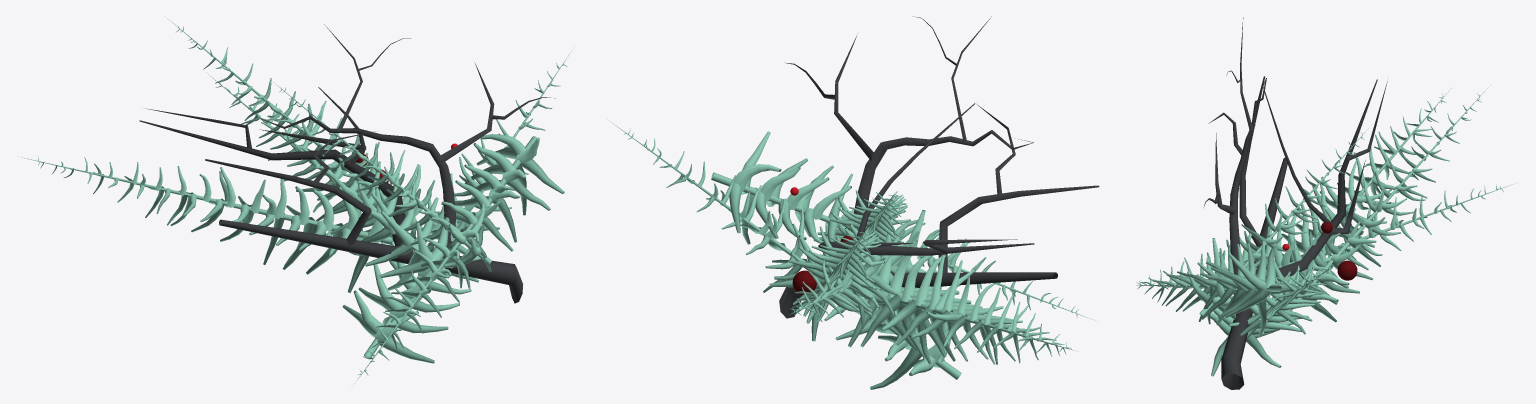
File: taiga.obj
The picture shows the model from 3 angles, left to right: view 1: azimuth 30°, elevation 25°; view 2: azimuth 150°, elevation 25°; view 3: azimuth 270°, elevation 25°; orthographic projection. The views are drawn at different scales.
Parts seen in each view (by area): view 1: Branche_bgroup1.006, bgroup5.003, bgroup4.004, bgroup2.004, bgroup2.006, bgroup5.002, bgroup7, bgroup3.003, bgroup2.001, bgroup4.001, bgroup4.003, bgroup3.002 (+21 smaller); view 2: bgroup5.003, bgroup2.003, bgroup4.004, bgroup3.003, bgroup5.004, Branche_bgroup1.006, bgroup7, bgroup2, bgroup2.002, bgroup5.006, bgroup3.004, bgroup2.001 (+21 smaller); view 3: Branche_bgroup1.006, bgroup5.003, bgroup2.004, bgroup3.004, bgroup2.006, bgroup5, bgroup4.004, bgroup2, bgroup7, bgroup3, bgroup2.002, bgroup5.005 (+20 smaller).
Part boxes in pixels (x1,y1,x2,y2): Branche_bgroup1.006: (219,219,523,303); bgroup5.003: (38,156,383,241); bgroup4.004: (359,134,526,373); bgroup2.004: (364,159,564,375); bgroup2.006: (139,120,407,246); bgroup5.002: (377,64,567,363); bgroup7: (261,116,455,258); bgroup3.003: (40,162,368,292); bgroup2.001: (216,85,429,278); bgroup4.001: (219,78,449,261); bgroup4.003: (38,161,378,255); bgroup3.002: (353,63,559,334); bgroup5.003: (875,233,1066,347); bgroup2.003: (848,289,1063,352); bgroup4.004: (734,164,1078,313); bgroup3.003: (880,302,1066,364); bgroup5.004: (729,180,1077,317); Branche_bgroup1.006: (779,272,1057,318); bgroup7: (851,130,1033,232); bgroup2: (769,231,863,290); bgroup2.002: (627,137,937,375); bgroup5.006: (938,185,1099,272); bgroup3.004: (742,131,1075,311); bgroup2.001: (796,263,941,317); Branche_bgroup1.006: (1221,157,1287,389); bgroup5.003: (1275,93,1443,276); bgroup2.004: (1137,285,1271,325); bgroup3.004: (1136,254,1268,291); bgroup2.006: (1265,79,1377,282); bgroup5: (1274,93,1479,298); bgroup4.004: (1140,241,1275,287); bgroup2: (1302,99,1480,301); bgroup7: (1229,78,1266,308); bgroup3: (1302,100,1481,322); bgroup2.002: (1252,272,1328,338); bgroup5.005: (1187,132,1362,302).
Size of the model in its own units: 2.77 by 1.88 by 2.08.
